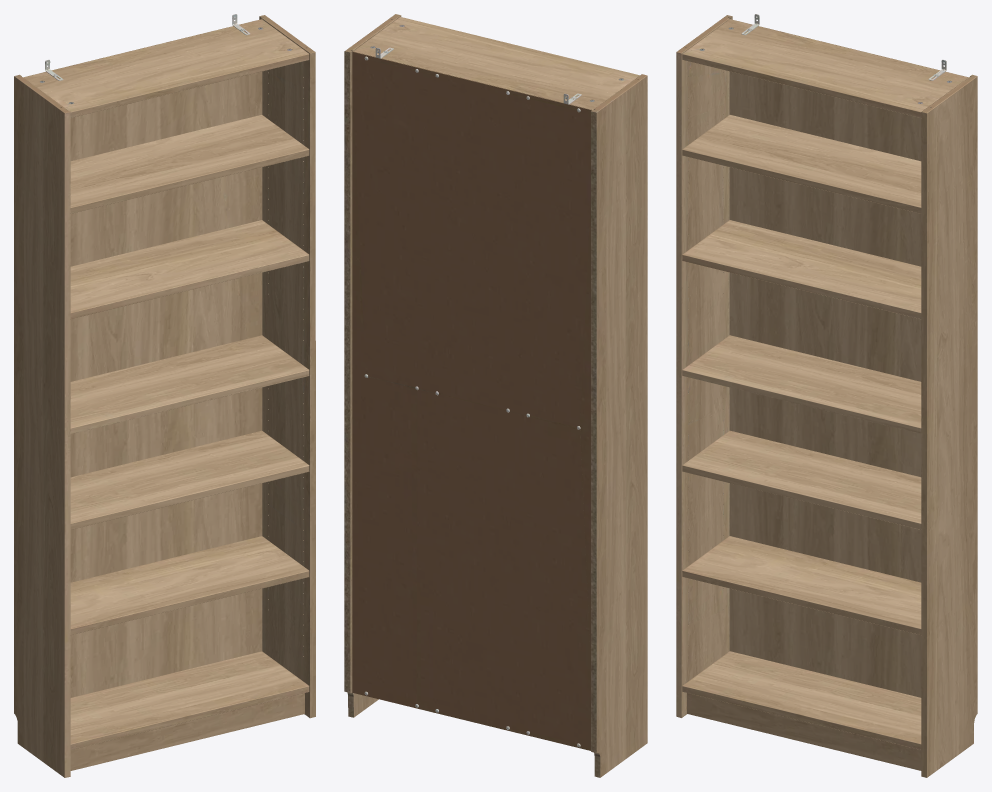
3 views of the same model, side by side, from view 1: azimuth 30°, elevation 25°; view 2: azimuth 150°, elevation 25°; view 3: azimuth 330°, elevation 25° (orthographic).
Visible parts, largest first — view 1: ASY_ART_10508932_S01_NV01; view 2: ASY_ART_10508932_S01_NV01; view 3: ASY_ART_10508932_S01_NV01.
Boxes of the visible parts, left/top/right/bottom form: ASY_ART_10508932_S01_NV01: left=14, top=14, right=315, bottom=777; ASY_ART_10508932_S01_NV01: left=344, top=14, right=647, bottom=777; ASY_ART_10508932_S01_NV01: left=676, top=14, right=977, bottom=777.
Size of the model in its own units: 0.7981 by 2.05 by 0.2798.
Materials: 1 (1 with a texture image).
